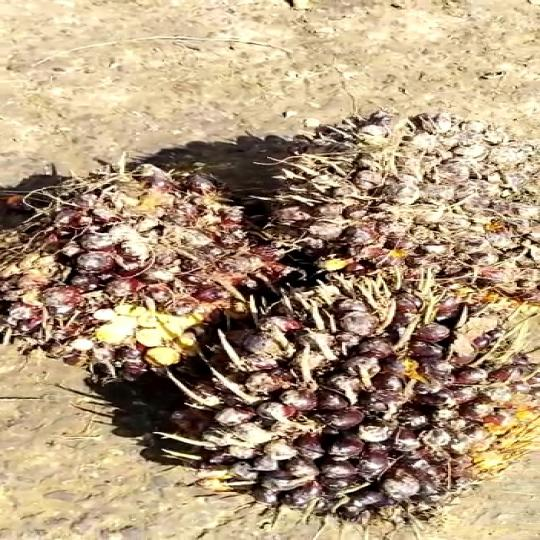kurang masak: (156, 274, 535, 532), (240, 120, 540, 302), (0, 169, 281, 357)
